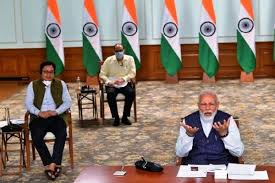Good: (27, 58, 243, 181), (98, 33, 244, 180), (27, 35, 137, 183)
